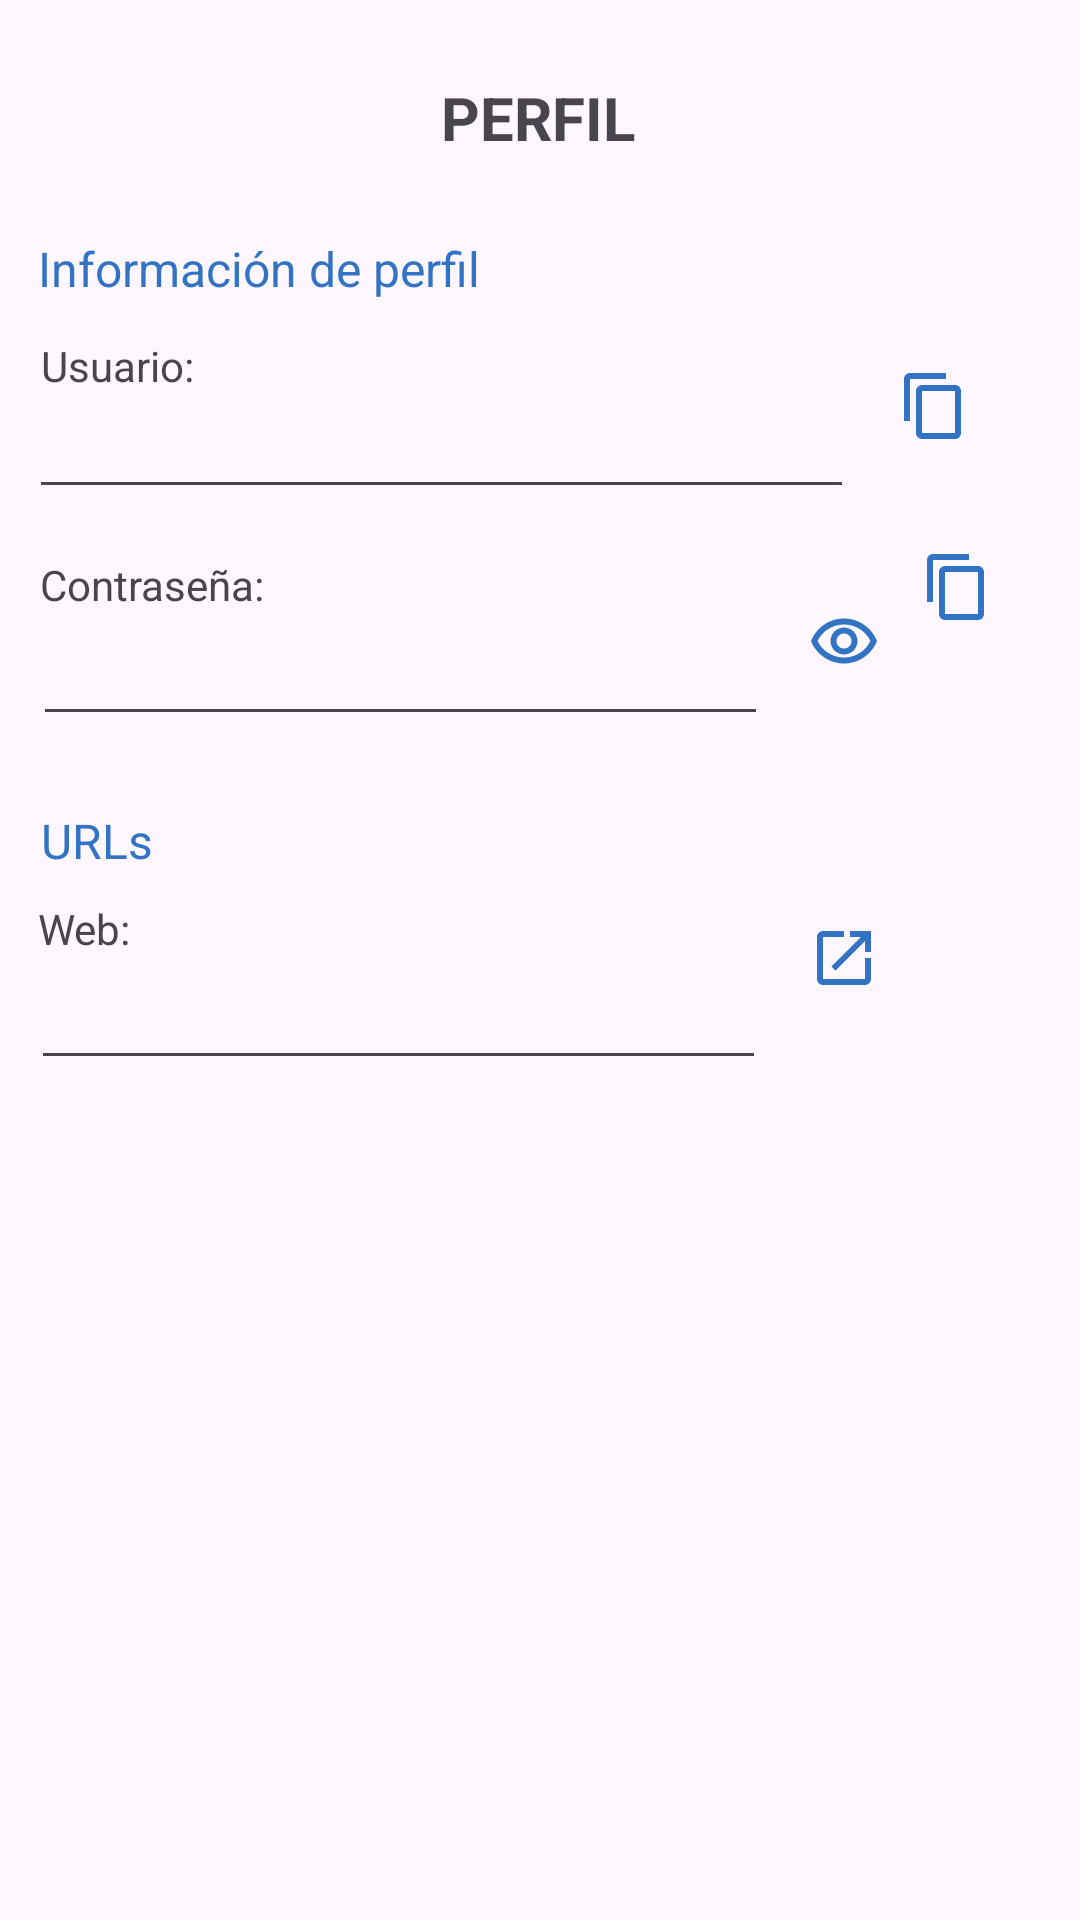

Locate icon controls on the screen. Image size 1080×1920, boxes as (x1, y1, x2, y2).
open in: (817, 931, 871, 985)
remove eye: (811, 618, 877, 664)
